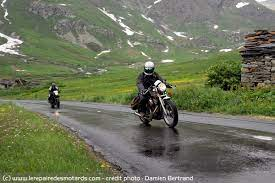moto: (135, 92, 184, 128), (48, 90, 61, 110)
person: (138, 62, 166, 94), (47, 82, 59, 93)
